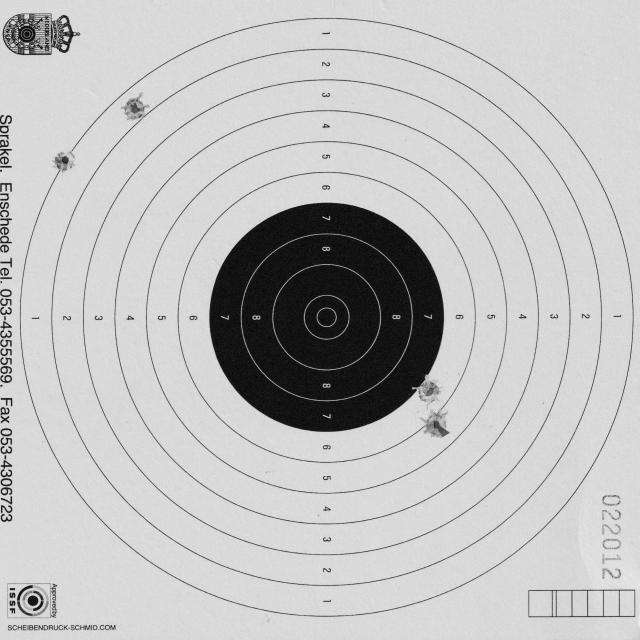1: (120, 92, 150, 121), (53, 149, 74, 172)
6: (418, 411, 451, 437)
7: (411, 374, 442, 410)
Target: (20, 16, 638, 622)
black_contour: (208, 204, 444, 433)
